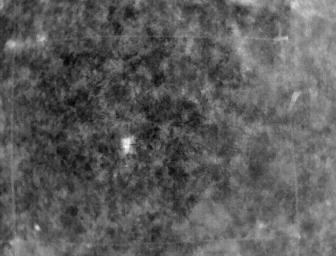landmine: (120, 134, 137, 154)
